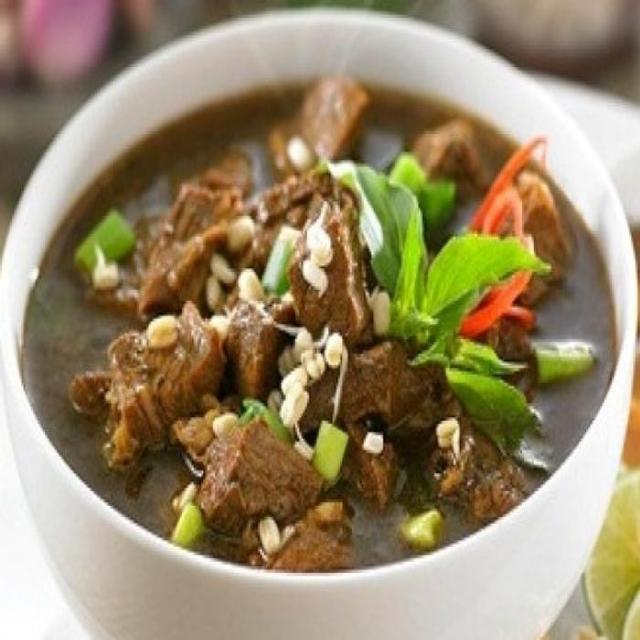Rawon: (15, 70, 614, 560)
